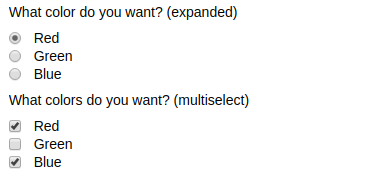checkbox: (4, 114, 68, 136), (2, 135, 72, 154), (3, 153, 73, 172)
radio_button: (6, 47, 75, 66), (5, 67, 78, 83), (6, 29, 66, 47)
textbox: (6, 94, 253, 111), (3, 4, 241, 20)
